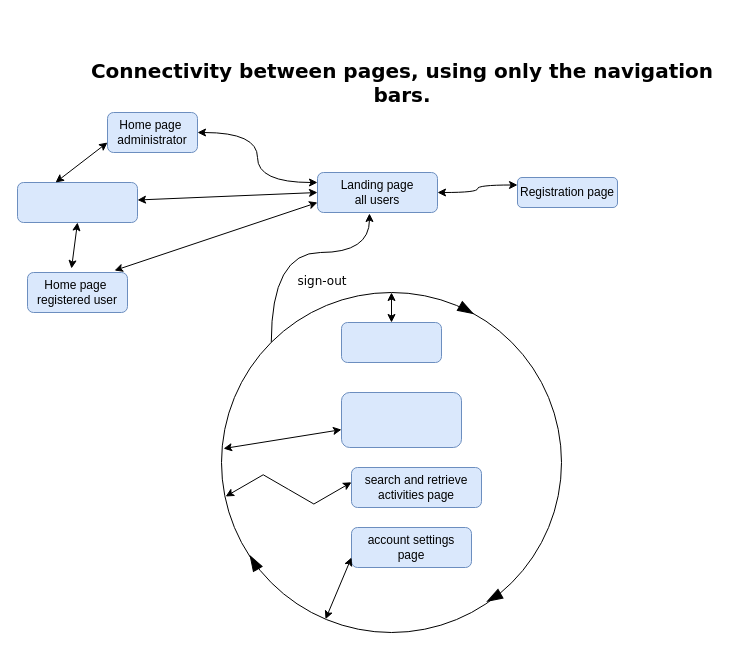
The diagram is 755 pixels wide and 650 high, and some of its shapes have lost their labels. The shapes that lost their labels are listed below. From the top down, each one's centre as x and y in pixels, then its label:
At point 77,202: "T & C page".
At point 391,342: "Home page admin or registered user".
At point 401,420: "message/notifications page registered user".
